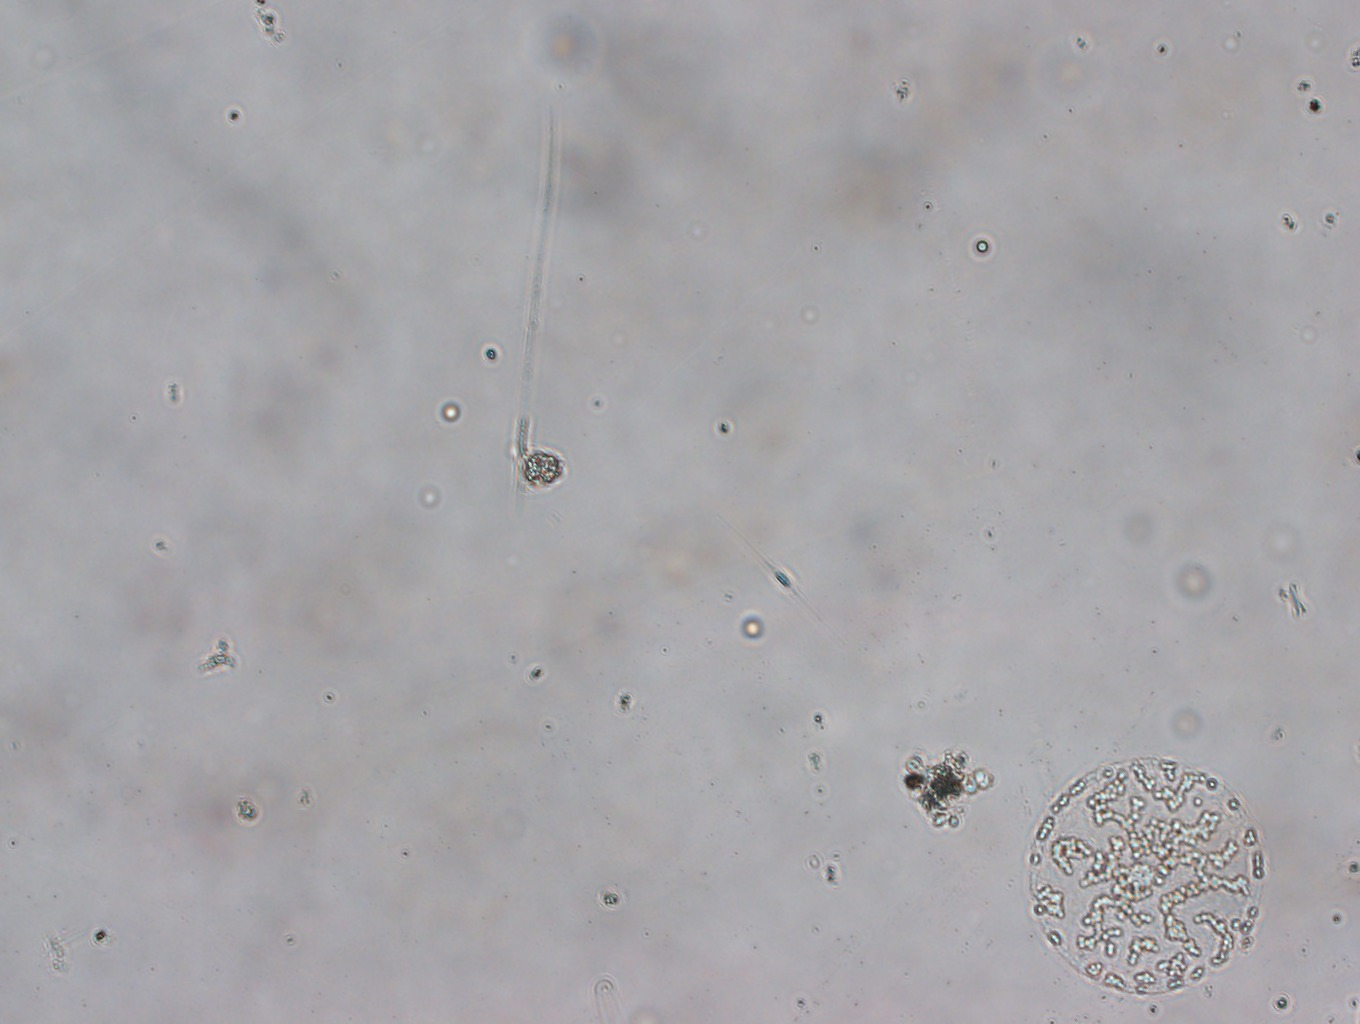coscinodiscus: (1028, 757, 1265, 994)
